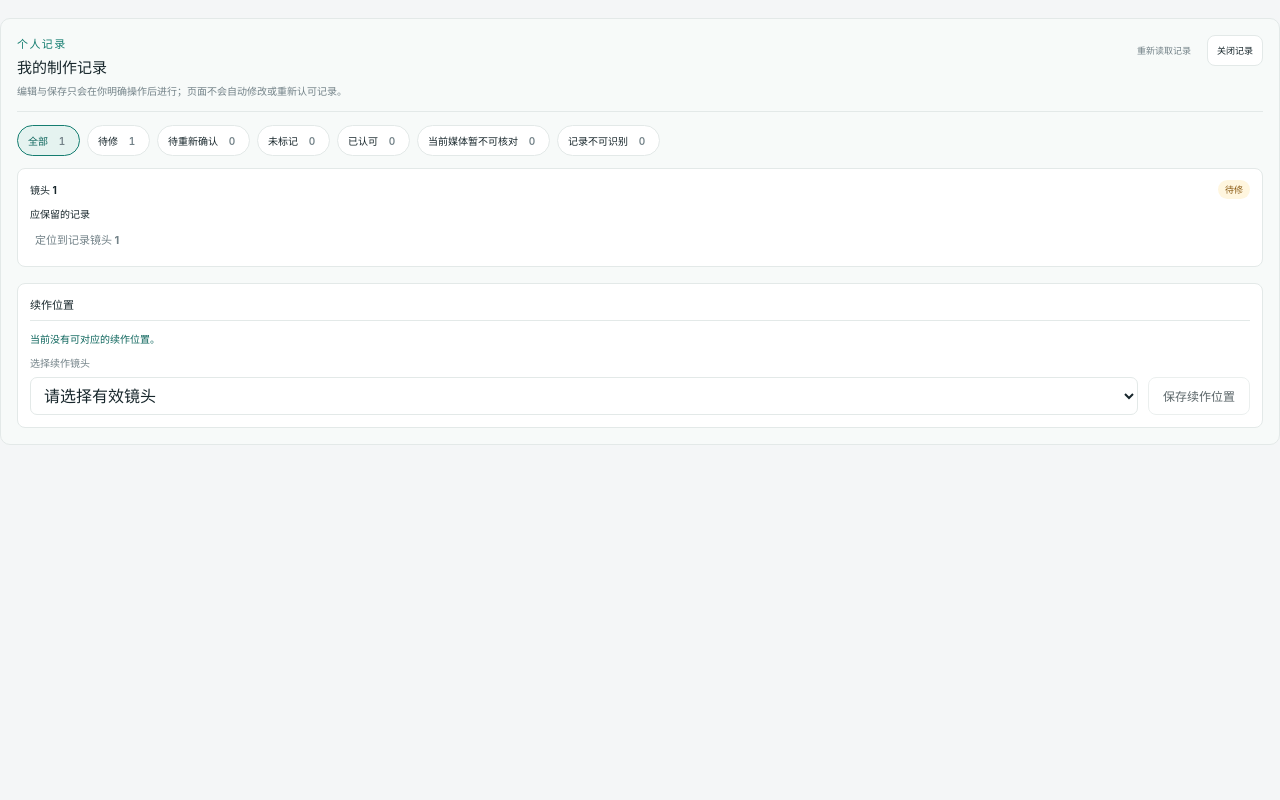
Test: personal production resume panel › keeps a 409 resume gate through a failed explicit read and unlocks only after recovery
This screenshot has width=1280, height=800.
Expected: the text "应保留的记录" is shown, [30,208,90,220]
Select "镜头 1" in the dropdown labelled "选择续作镜头" at x=584, y=396, box [30,376,1138,414]
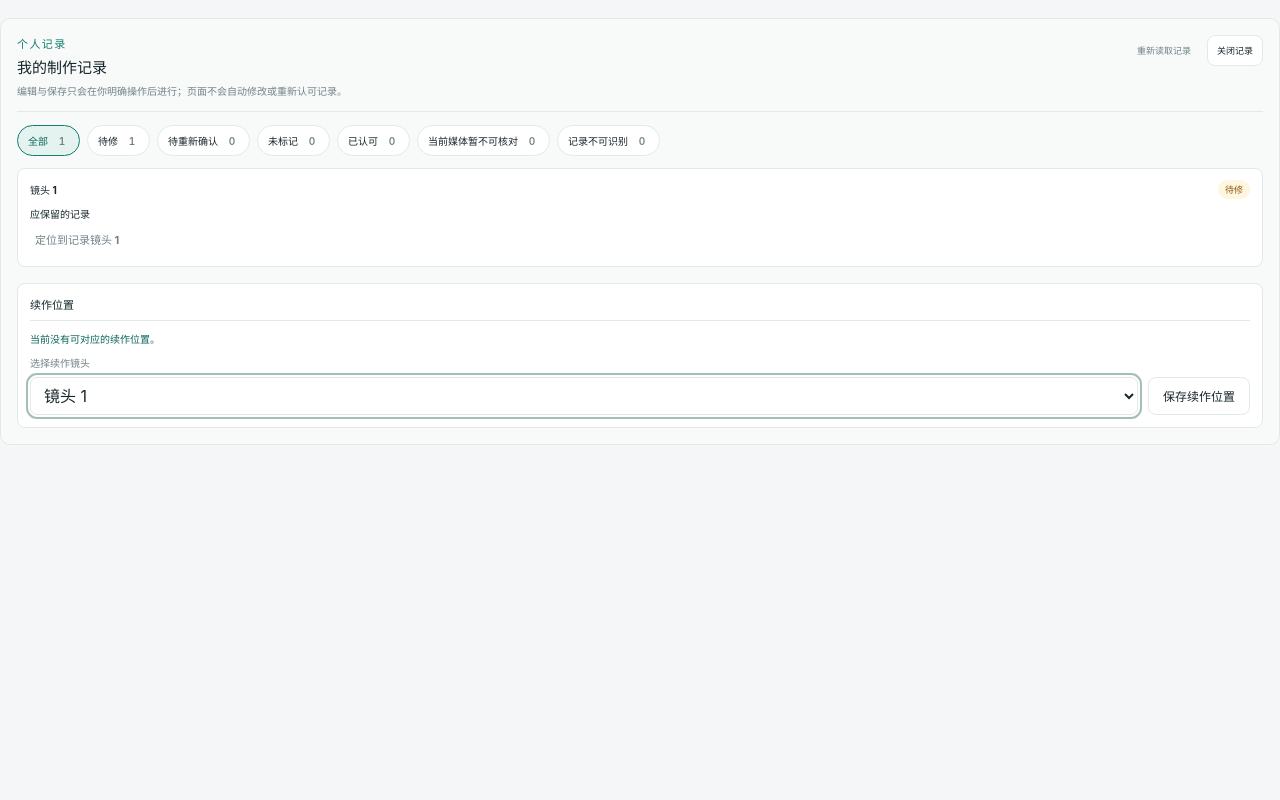
Click the button "保存续作位置" at x=1199, y=396, box [1148,376,1250,414]
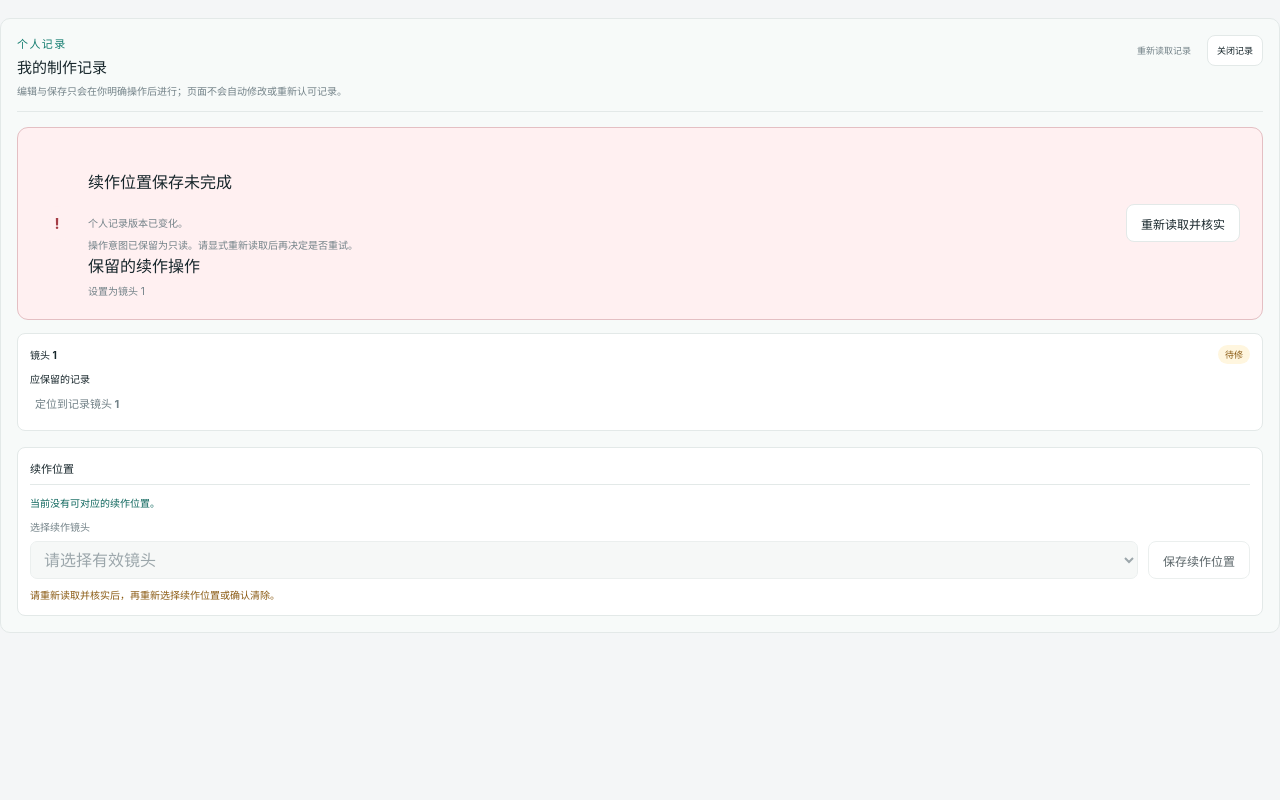
Now the message shows "续作位置保存未完成", box [88,172,232,192]
Click the button "重新读取并核实" at x=1183, y=223, box [1126,204,1240,242]
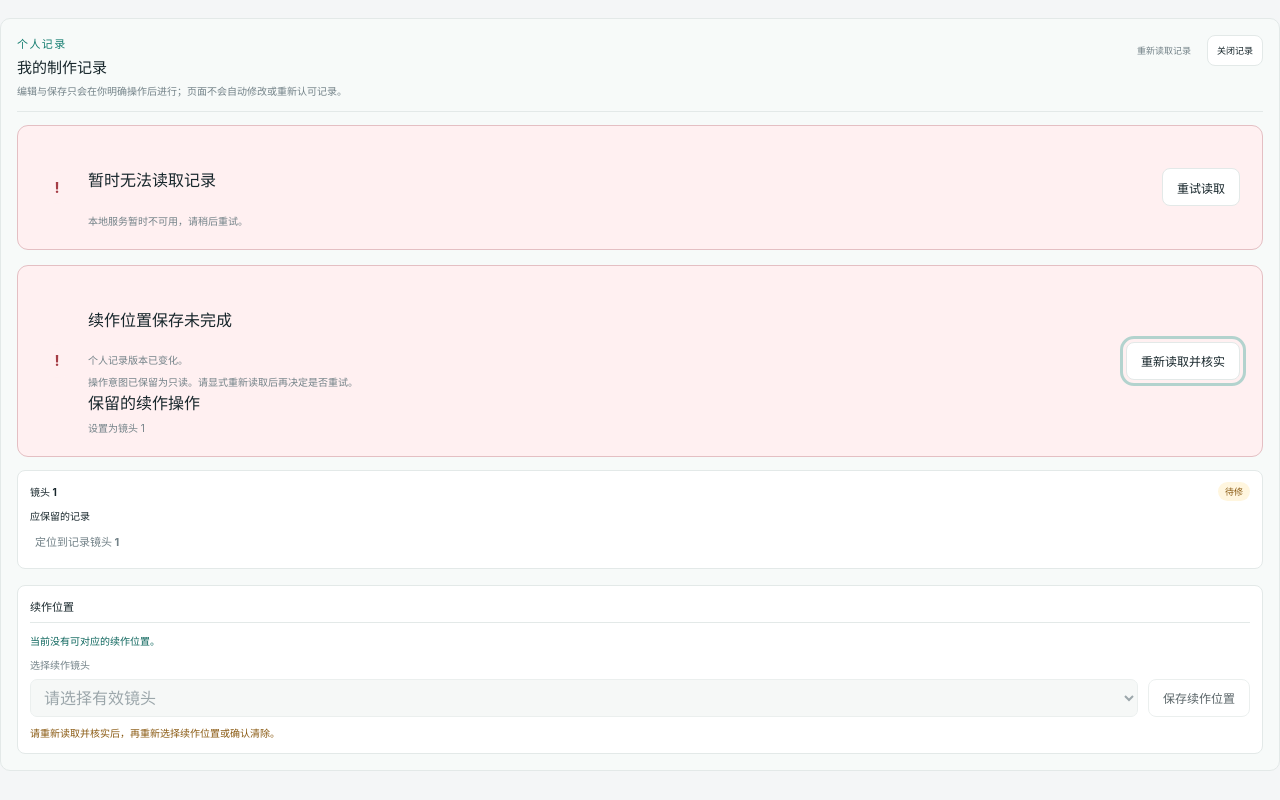
Now the heading "续作位置保存未完成" is shown, box [88,310,232,330]
Now the button "重新读取并核实" is enabled
Now the dropdown labelled "选择续作镜头" is disabled, box [30,679,1138,717]
Click the button "重新读取并核实" at x=1183, y=361, box [1126,342,1240,380]
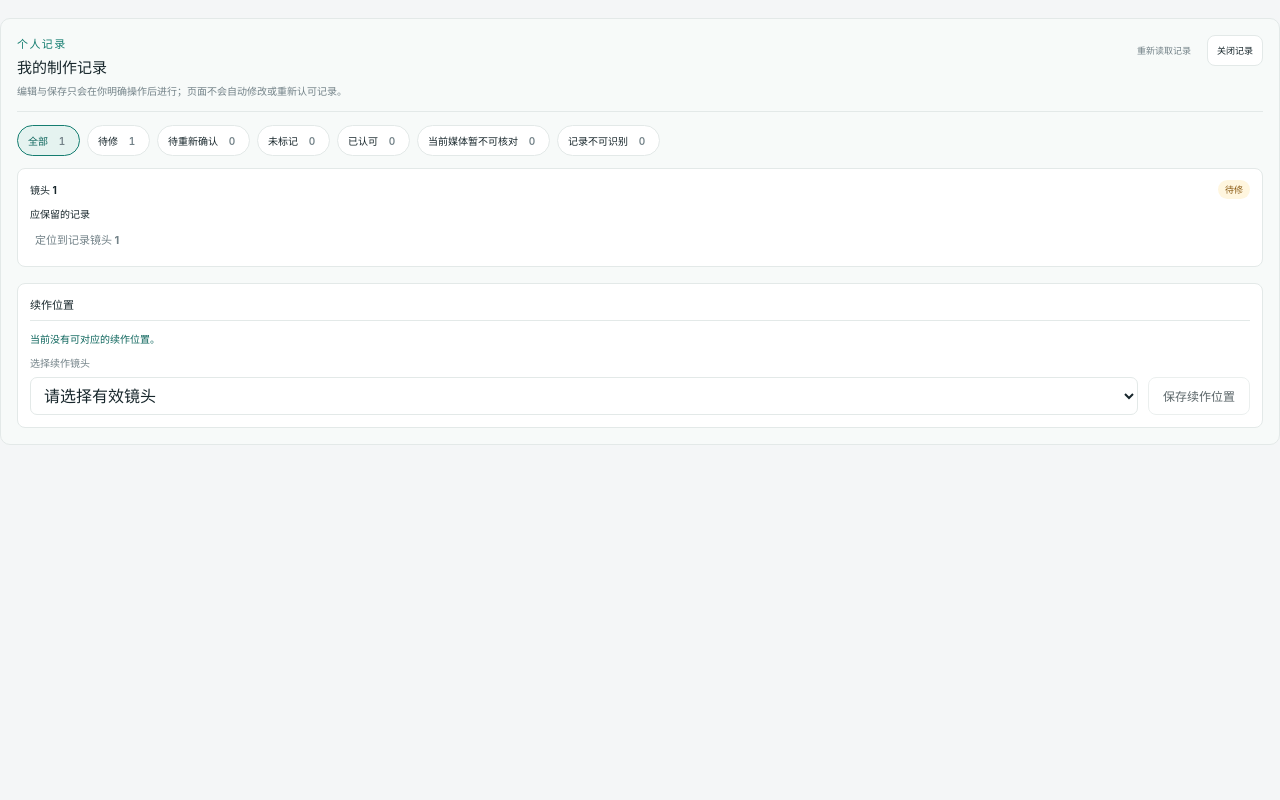
Expected: the text "应保留的记录" is shown, [30,208,90,220]
Now the heading "续作位置保存未完成" is gone
